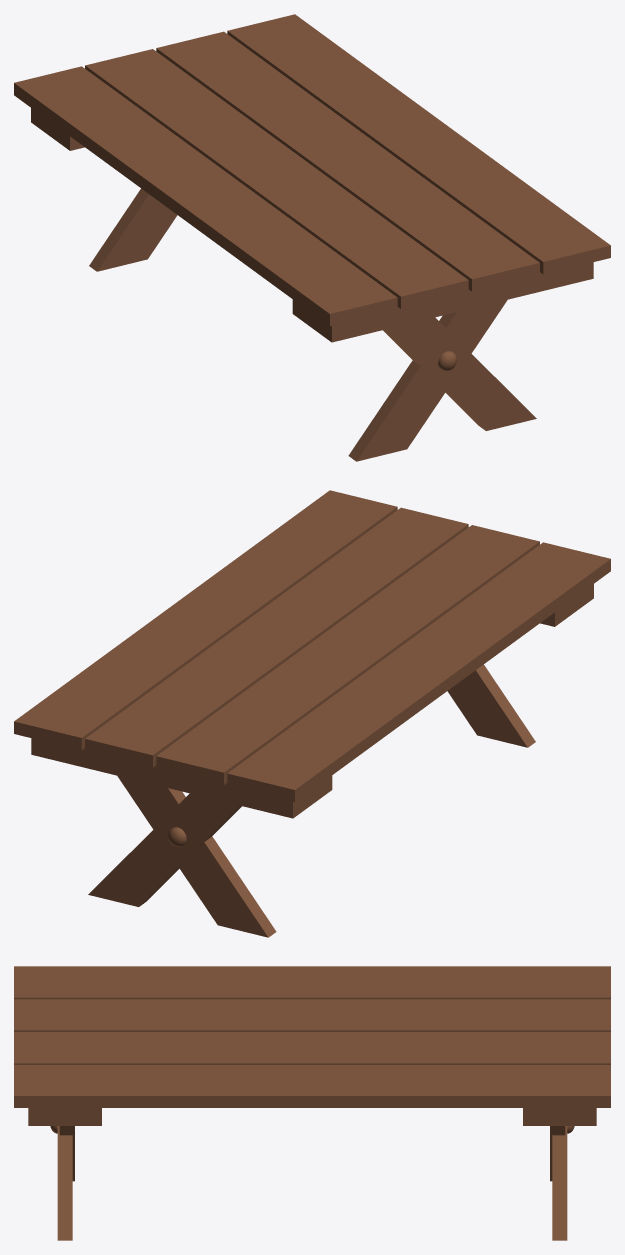
Rendered from table1_01.fbx.
The picture shows the model from 3 angles, top to bottom: view 1: azimuth 30°, elevation 25°; view 2: azimuth 150°, elevation 25°; view 3: azimuth 270°, elevation 25°; orthographic projection. The views are drawn at different scales.
Visible parts, largest first — view 1: table_01_l; view 2: table_01_l; view 3: table_01_l.
Boxes of the visible parts, <box> form: table_01_l: <box>14,14,610,461</box>; table_01_l: <box>14,490,610,937</box>; table_01_l: <box>14,966,610,1240</box>.
Bounding box in the file's own units: 413 × 249 × 803.
